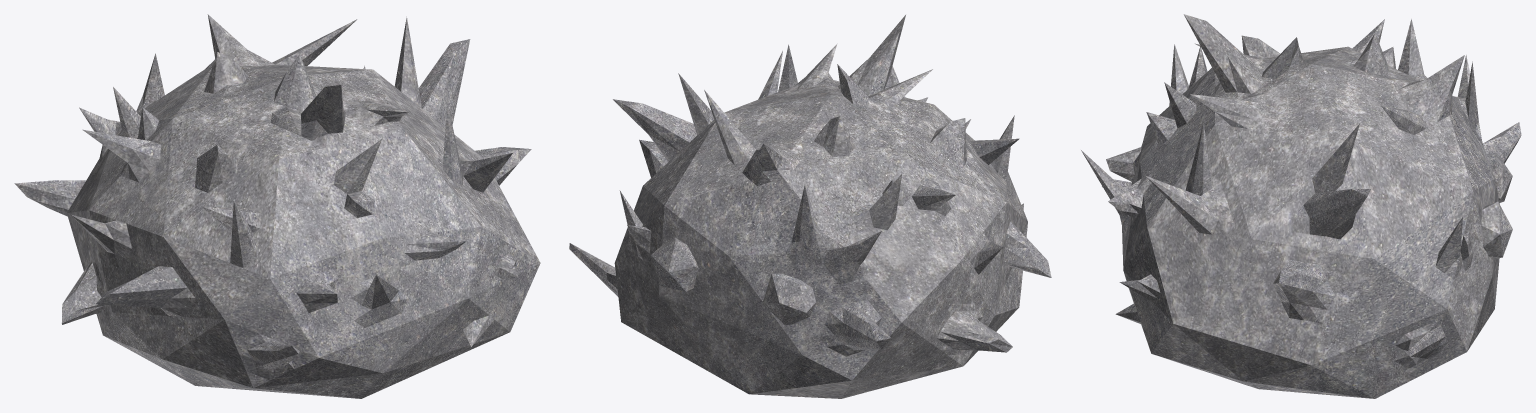
Rendered from SharockBody.obj.
3 views of the same model, side by side, from view 1: azimuth 30°, elevation 25°; view 2: azimuth 150°, elevation 25°; view 3: azimuth 270°, elevation 25° (orthographic). The views are drawn at different scales.
Parts seen in each view (by area): view 1: Icosphere; view 2: Icosphere; view 3: Icosphere.
Boxes of the visible parts, box(x1,y1,x2,y2) form: Icosphere: box(14, 14, 540, 398); Icosphere: box(569, 15, 1051, 398); Icosphere: box(1081, 14, 1521, 398).
Size of the model in its own units: 2.24 by 1.54 by 1.94.
